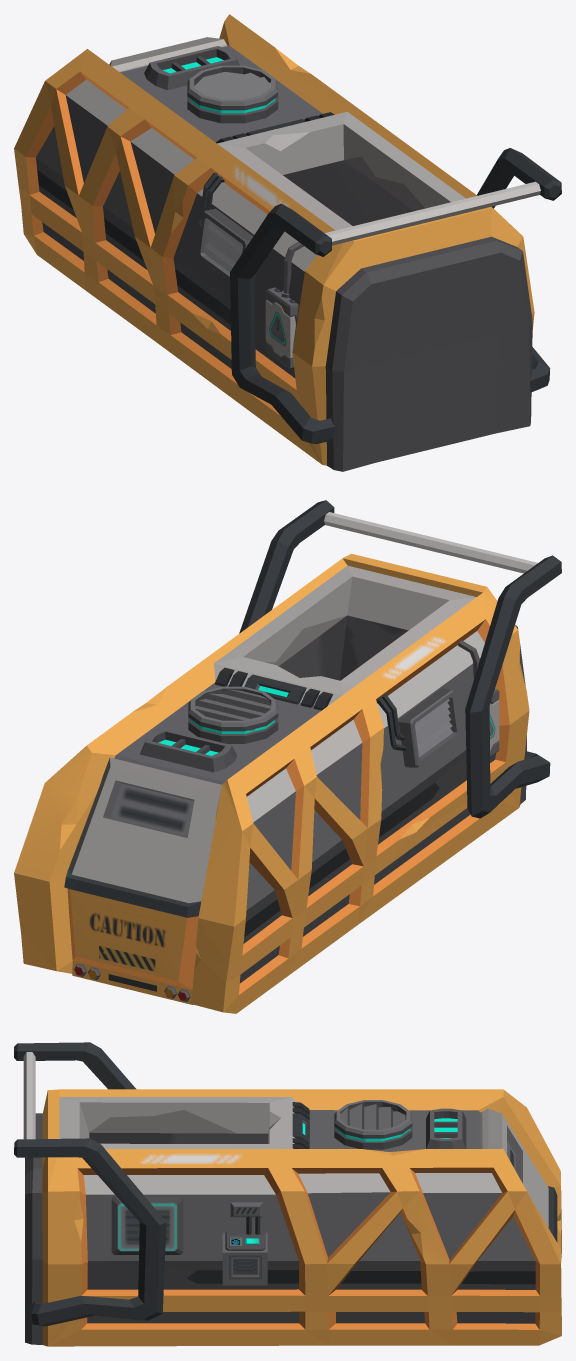
Rendered from SM_Veh_Truck_01_Module_03.fbx.
The picture shows the model from 3 angles, top to bottom: view 1: azimuth 30°, elevation 25°; view 2: azimuth 150°, elevation 25°; view 3: azimuth 270°, elevation 25°; orthographic projection. The views are drawn at different scales.
Visible parts, largest first — view 1: SM_Veh_Truck_01_Module_03; view 2: SM_Veh_Truck_01_Module_03; view 3: SM_Veh_Truck_01_Module_03.
Part boxes in pixels (bbox=[...]): SM_Veh_Truck_01_Module_03: bbox=[14, 14, 561, 471]; SM_Veh_Truck_01_Module_03: bbox=[14, 500, 561, 1013]; SM_Veh_Truck_01_Module_03: bbox=[14, 1042, 561, 1346].
Bounding box in the file's own units: 323 × 304 × 709.
